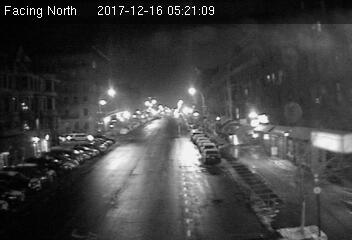car: (203, 149, 220, 164)
